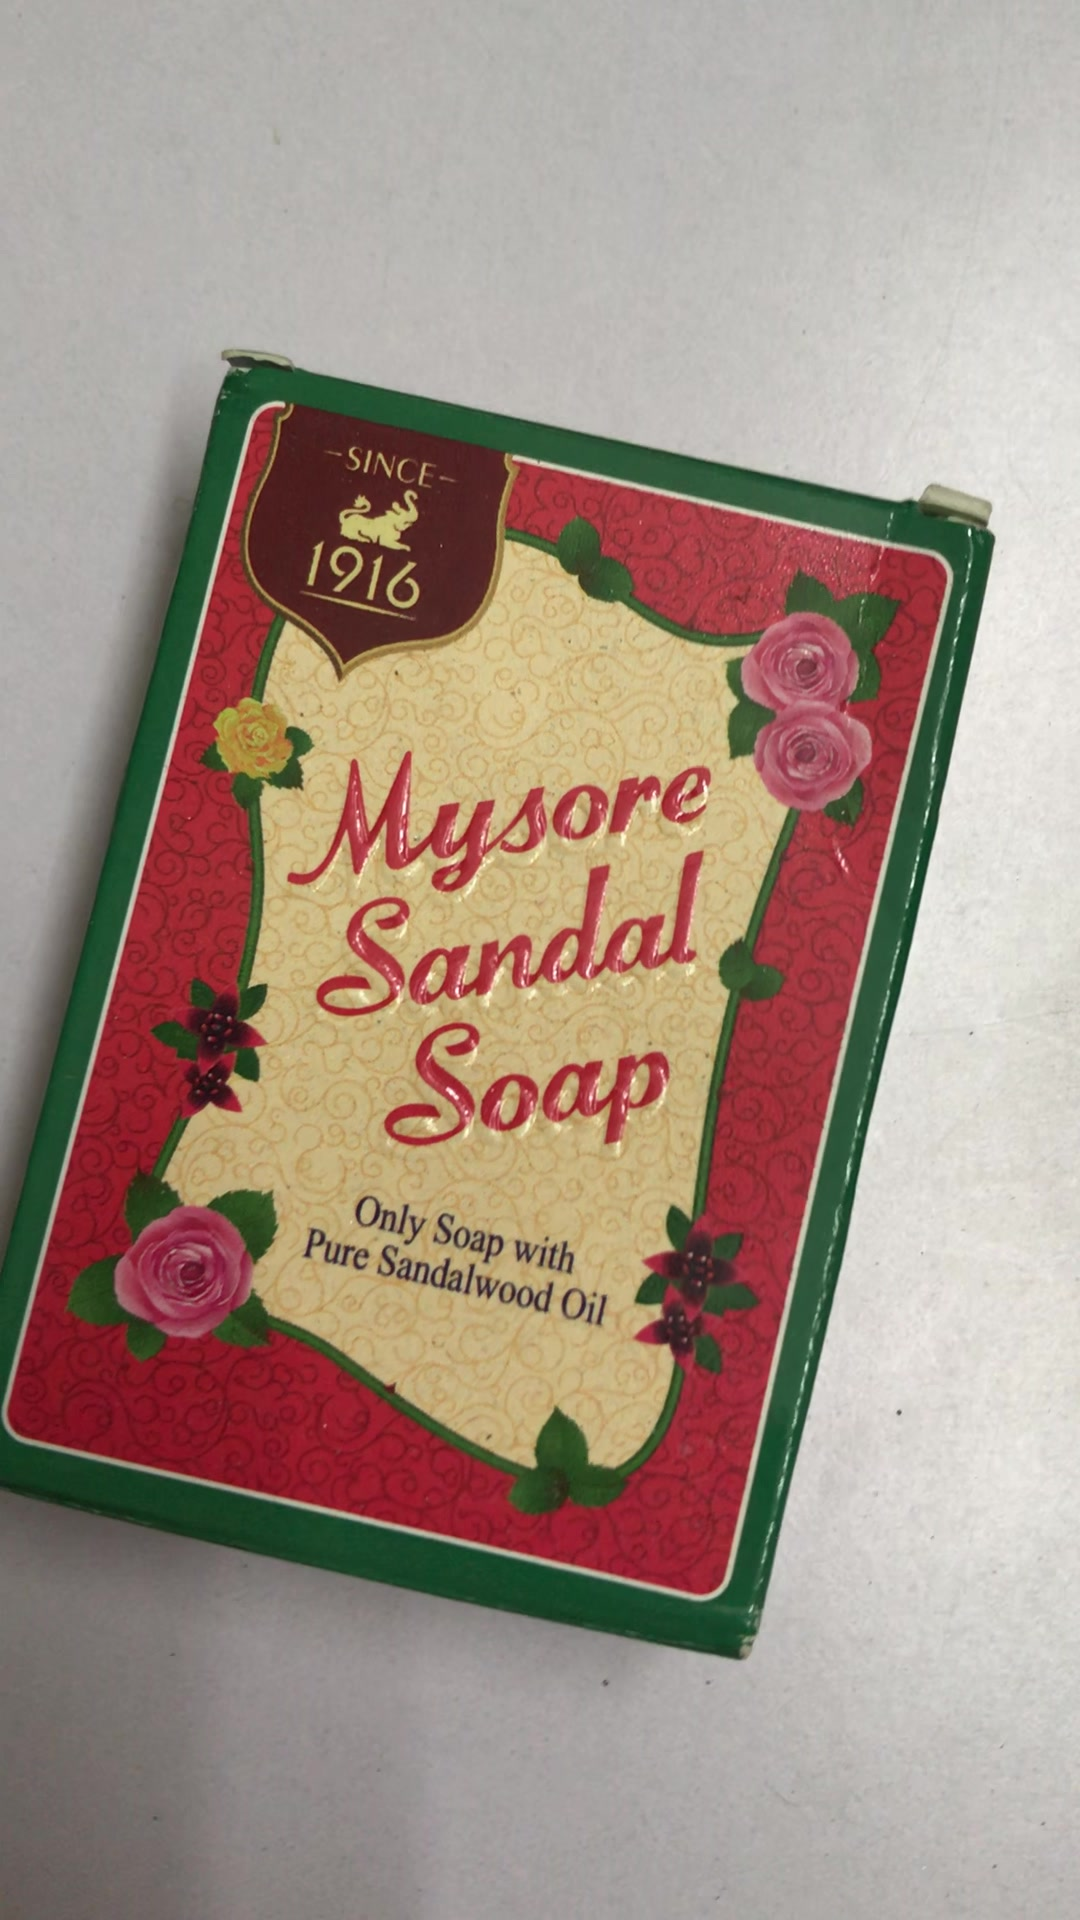mysore sandal soap: (5, 352, 990, 1658)
